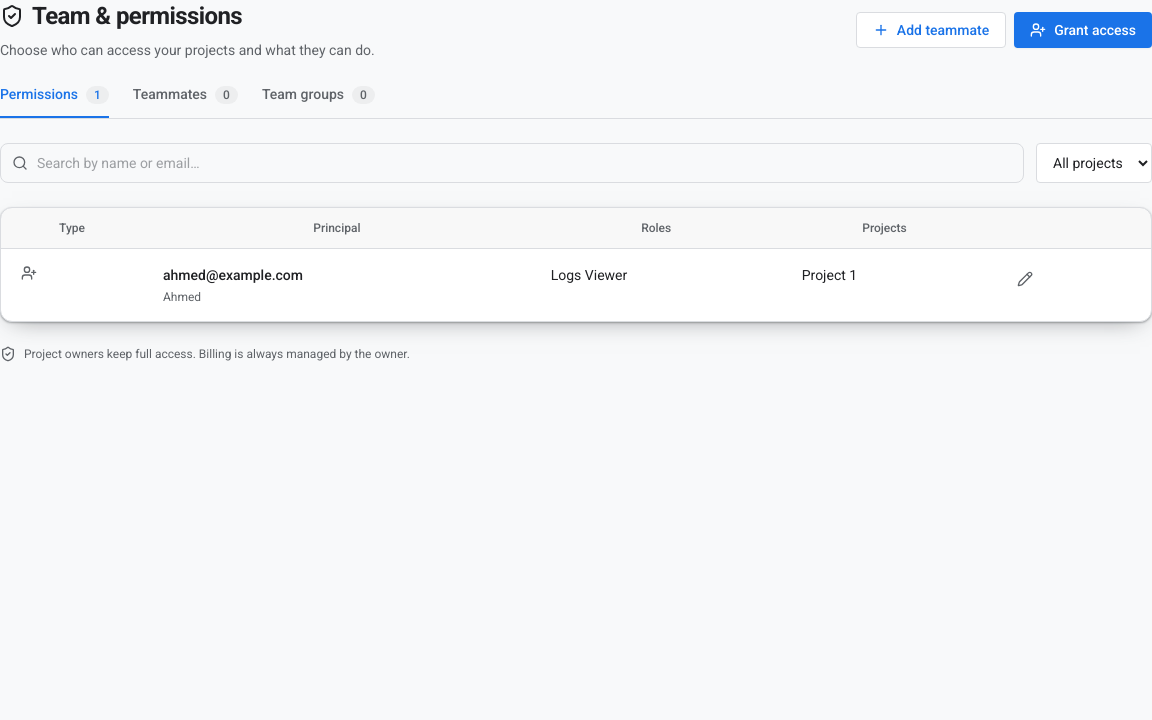
Test case: Project Access › blocks saving when the selected environment exceeds the administrator's scope
The image size is (1152, 720).
Click the button "Grant access" at x=1083, y=30, box [1014, 12, 1151, 48]
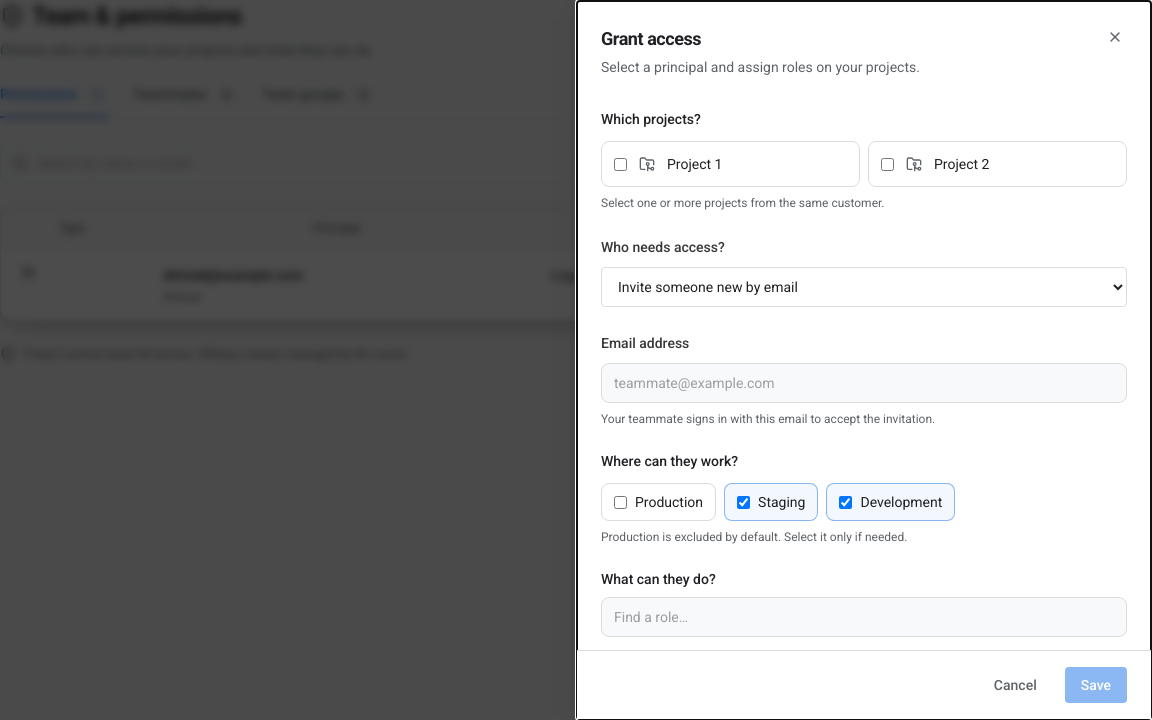
Click the checkbox labelled "Project 1" at x=620, y=164, box [614, 158, 627, 170]
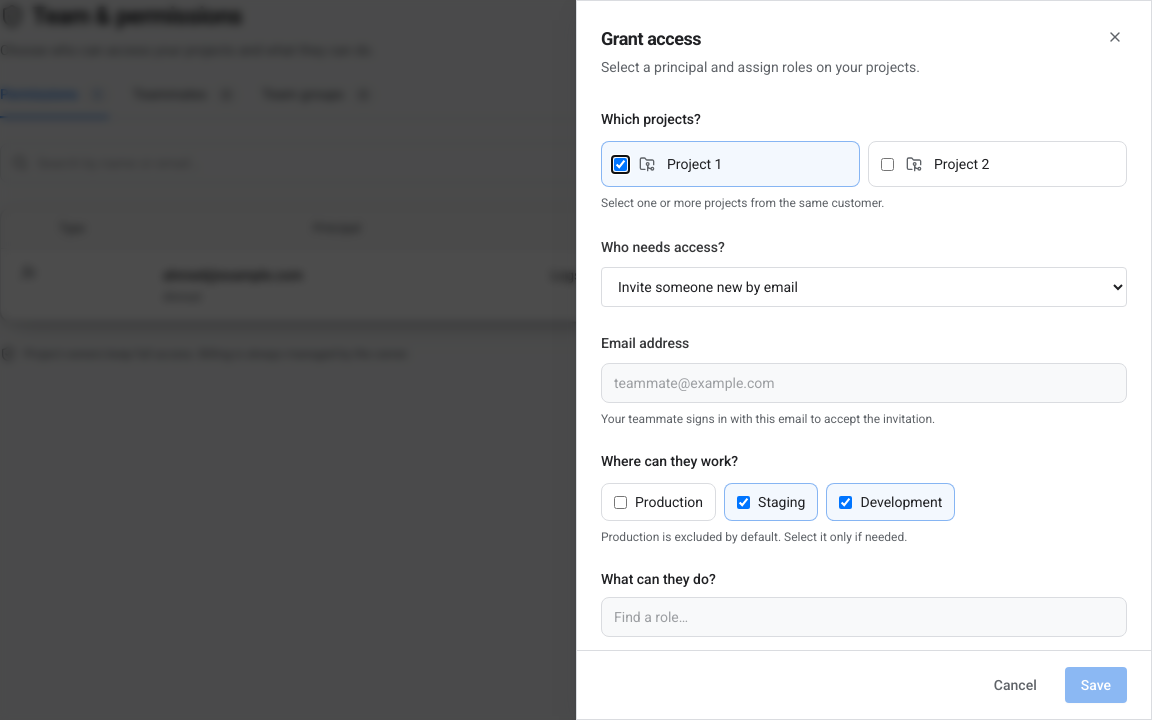
Type "ahmed@example.com" into the field labelled "Email address" at x=864, y=383, box [601, 363, 1127, 403]
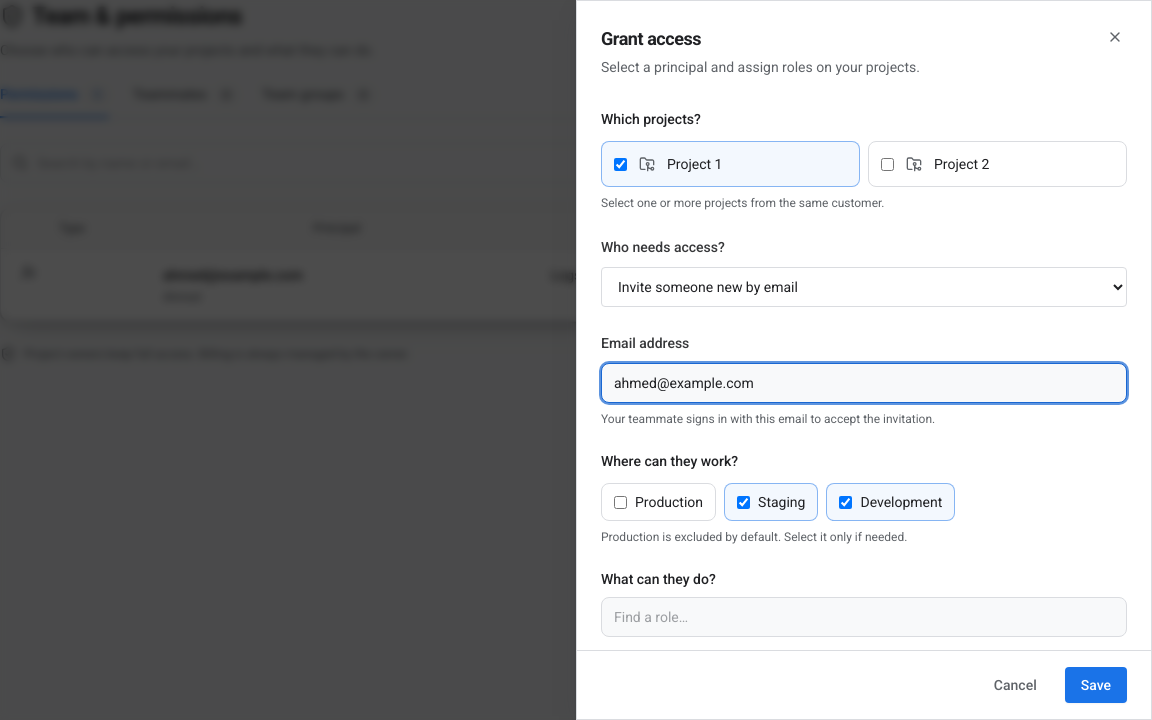
Click the checkbox labelled "Production" at x=620, y=502, box [614, 496, 627, 508]
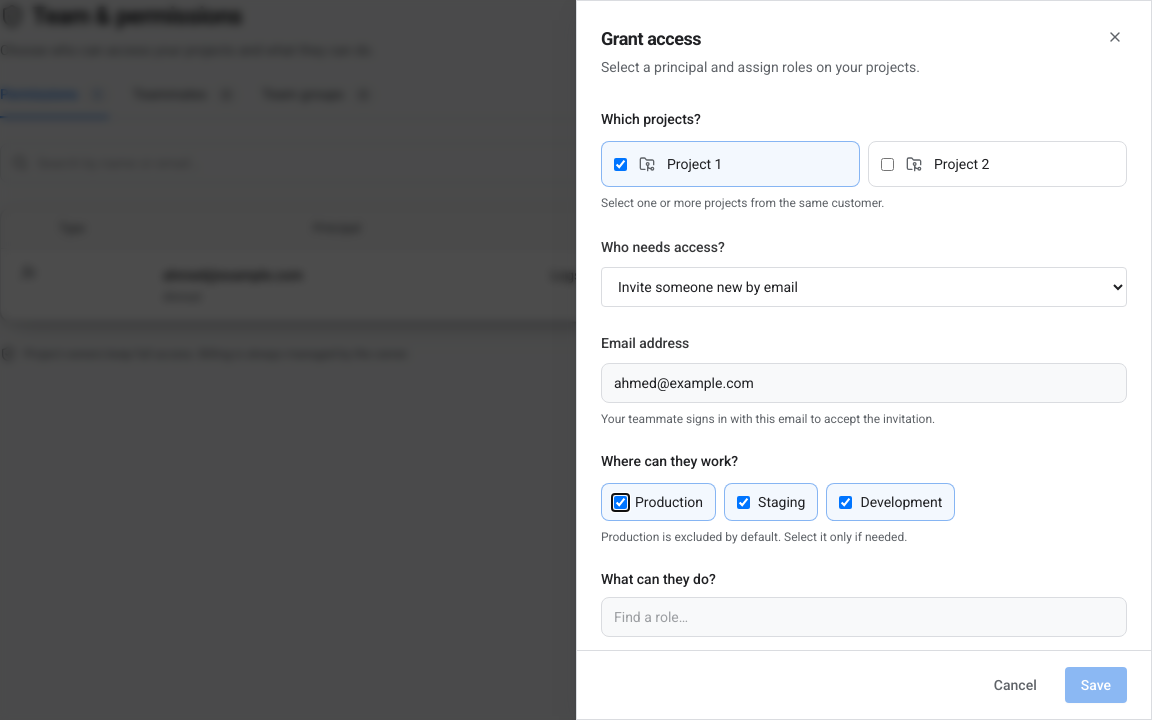
Expected: the button "Save" is disabled, [1065, 667, 1127, 703]
